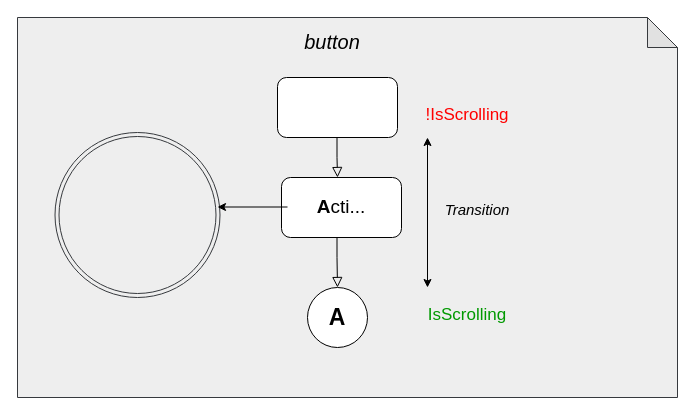
Some shapes in this 695 by 415 pixel diagram are drawn without their labels. The centre of each missing label's shape, as x and y in pixels:
<span> with transitioning width from 40px to 0px & overflow :hidden: [137,215]
A ction: [337,107]
